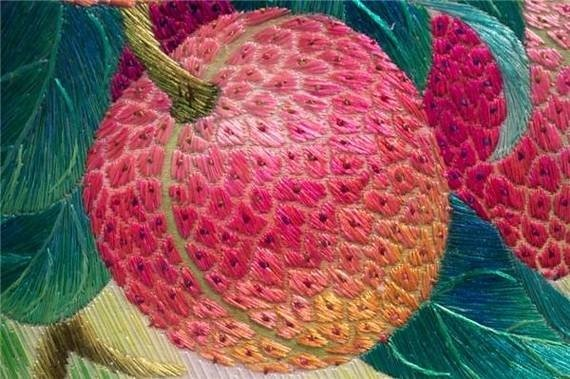lychee: (75, 7, 451, 368), (457, 76, 569, 281), (70, 1, 236, 101), (424, 13, 507, 188), (518, 1, 569, 105)
